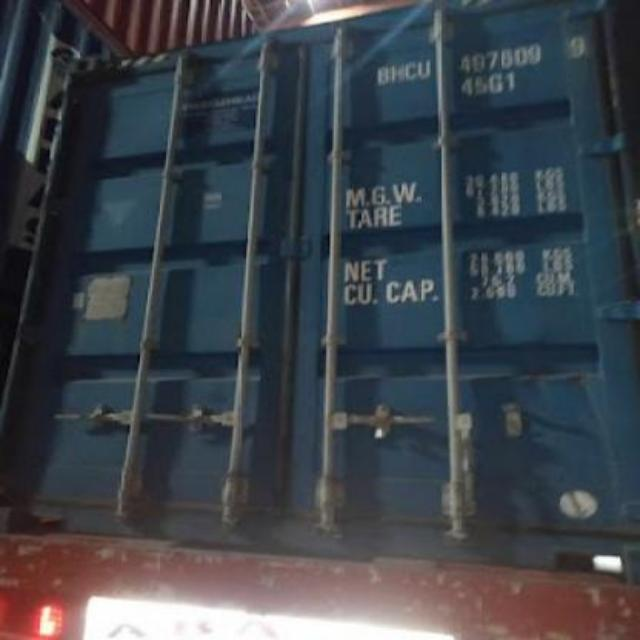0: (510, 38, 528, 68), (570, 32, 584, 62), (472, 48, 486, 72)
4: (458, 48, 470, 74)
6: (498, 43, 512, 69)
7: (486, 46, 498, 70)
9: (528, 37, 544, 67)
B: (376, 61, 389, 87)
C: (404, 59, 418, 85)
H: (391, 61, 404, 87)
U: (416, 54, 432, 84)
